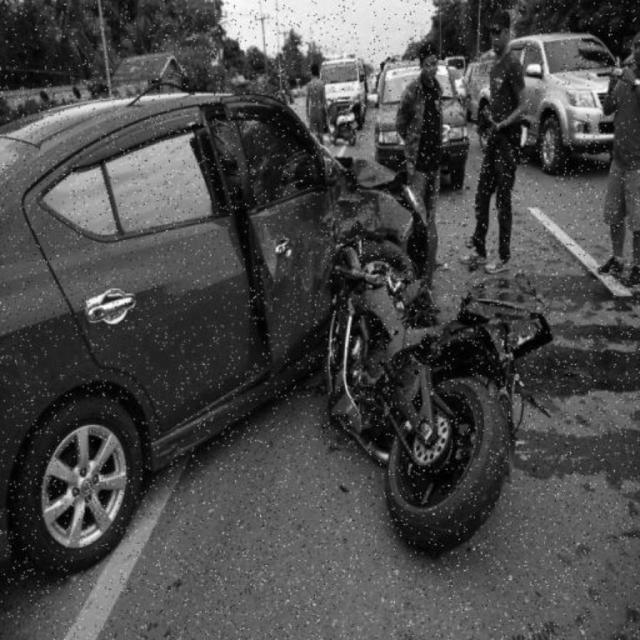accident: (22, 122, 526, 570)
person: (468, 18, 529, 269), (594, 27, 640, 300), (399, 46, 450, 222), (303, 67, 340, 141)
vehicle: (481, 37, 629, 159), (370, 58, 473, 182)
